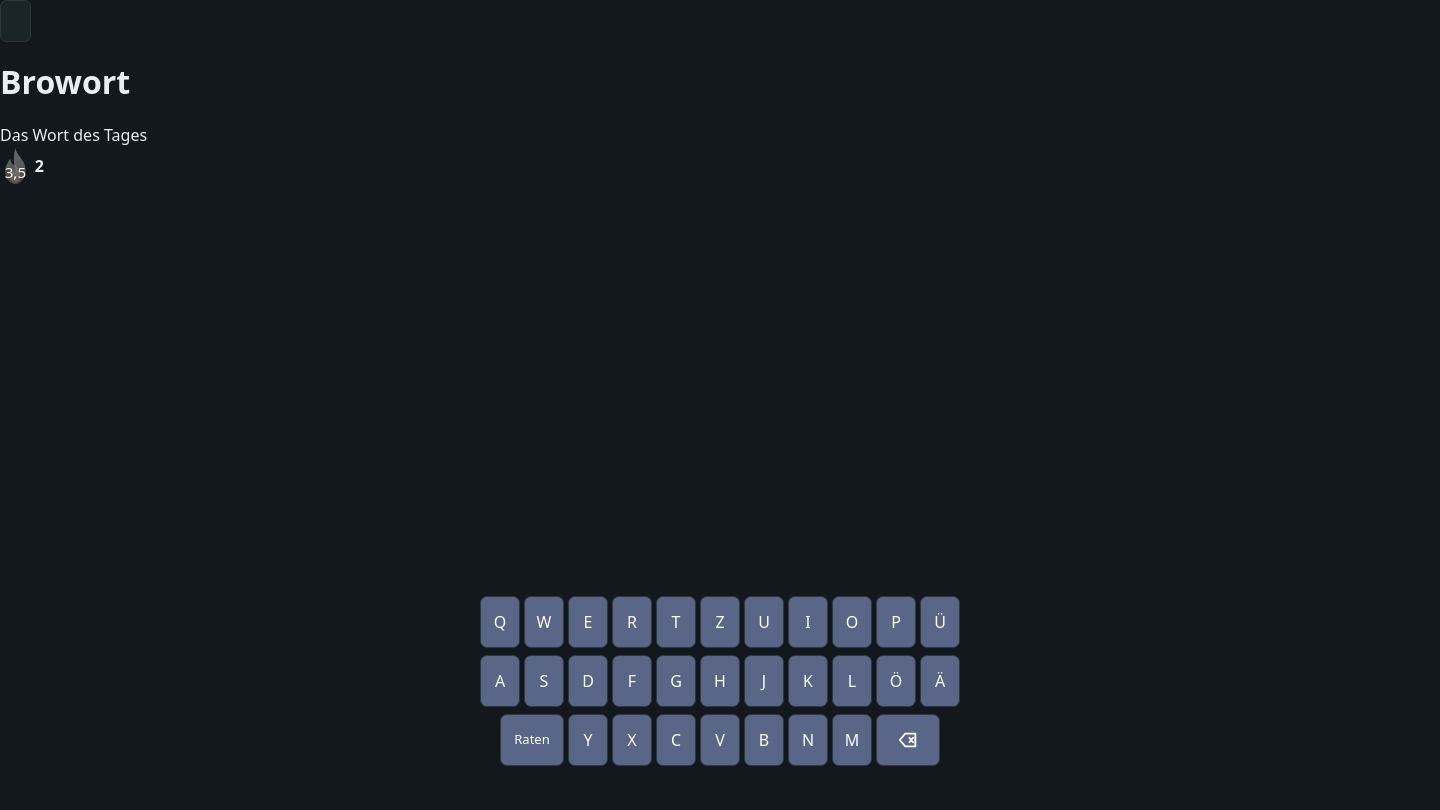
Test: Browort › verliert bei schnellem Tippen keinen Buchstaben
Expected: the element named "Serie 2" is shown, [0, 147, 44, 186]
Press the mouse on the button "P" at (896, 622), box [876, 596, 916, 648]
Press the mouse on the button "A" at (500, 681), box [480, 655, 520, 707]
Press the mouse on the button "P" at (896, 622), box [876, 596, 916, 648]
Press the mouse on the button "S" at (544, 681), box [524, 655, 564, 707]
Press the mouse on the button "T" at (676, 622), box [656, 596, 696, 648]
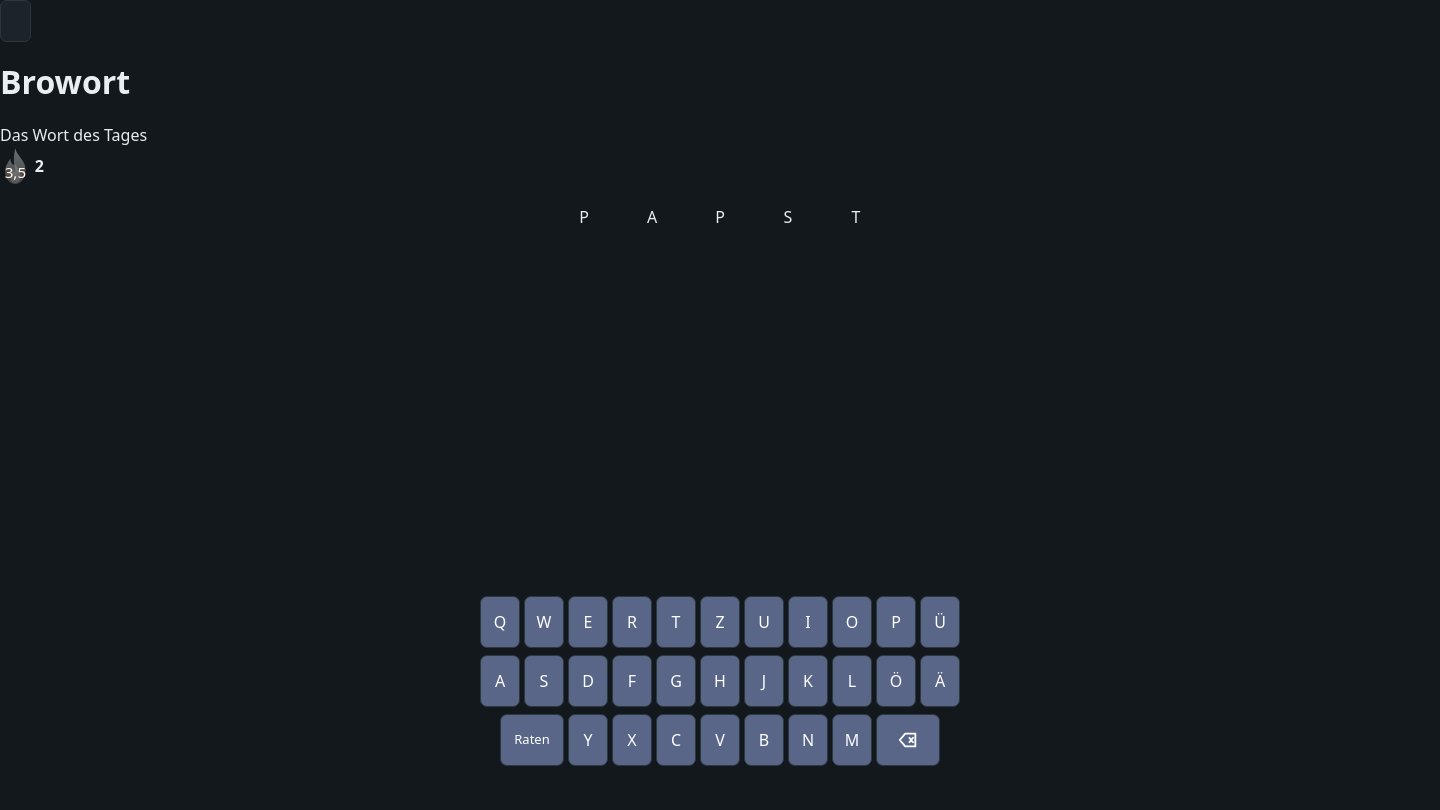
Now the row "P A P S T" is shown, box [579, 206, 860, 228]
